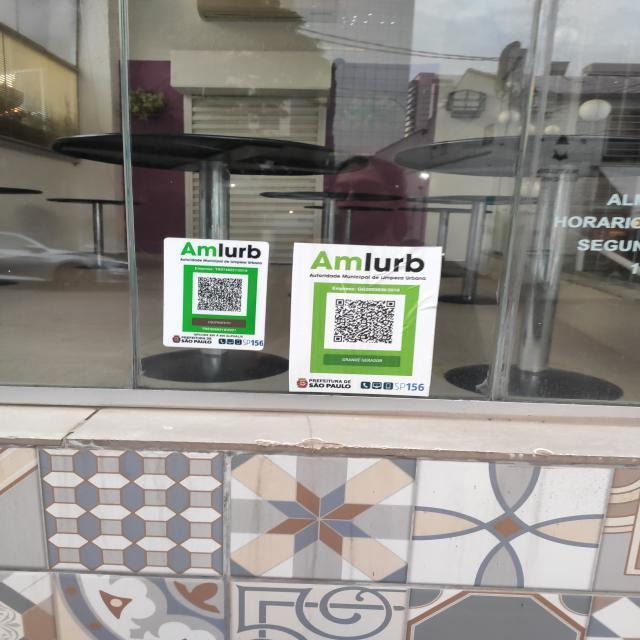qr_code: (334, 299, 396, 344), (197, 277, 242, 312)
